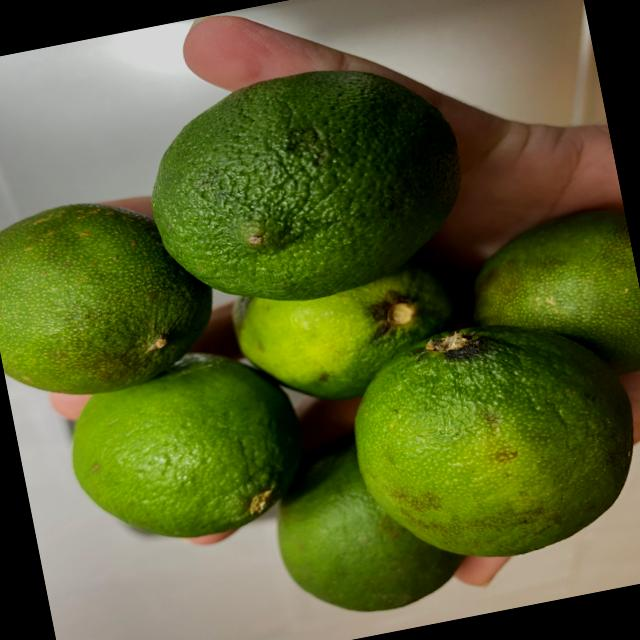lemon: (0, 22, 640, 640)
